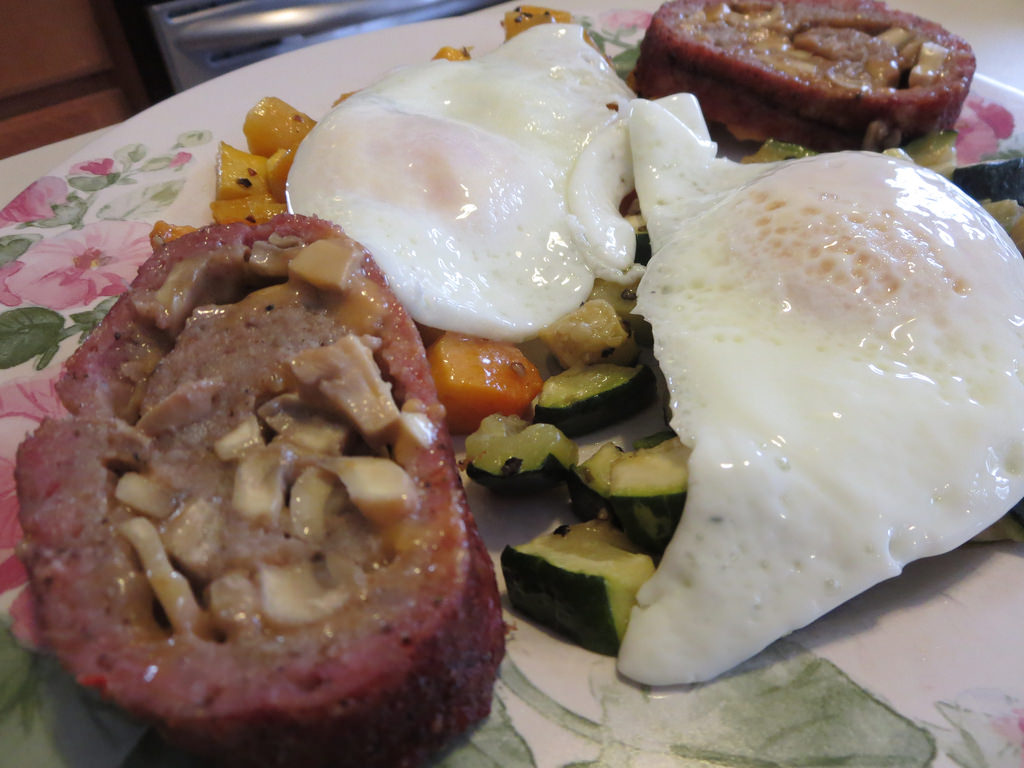fried egg: (617, 120, 958, 676)
